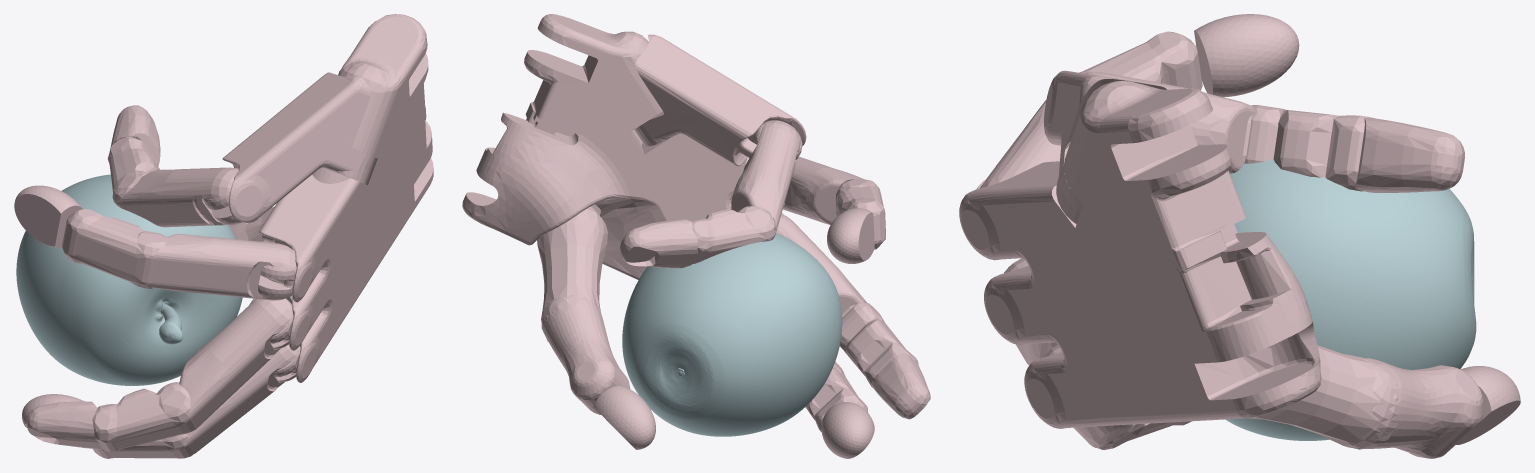
The model's file is grasp_6.glb.
3 renders of one model, left to right at view 1: azimuth 30°, elevation 25°; view 2: azimuth 150°, elevation 25°; view 3: azimuth 270°, elevation 25°, orthographic. The views are drawn at different scales.
Visible parts, largest first — view 1: world; view 2: world; view 3: world.
Part boxes in pixels (x1,y1,x2,y2): world: (14,14,433,458); world: (462,14,930,458); world: (959,14,1520,458).
Bounding box in the file's own units: 0.1769 × 0.1411 × 0.1348.
